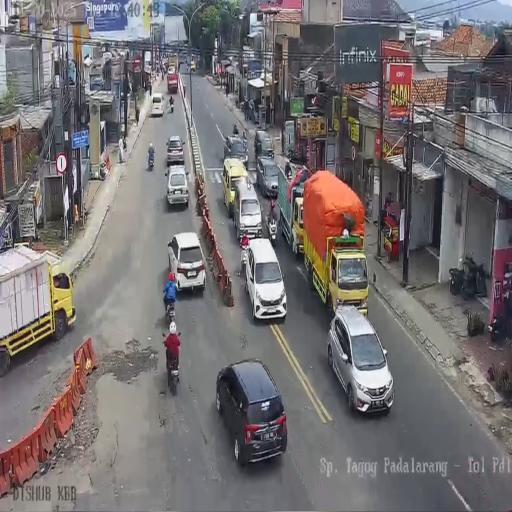car: (216, 360, 290, 466), (328, 305, 392, 414), (242, 237, 287, 322), (166, 232, 205, 296), (232, 180, 261, 242), (166, 163, 190, 206), (255, 157, 279, 200), (224, 134, 248, 168), (166, 134, 185, 166), (254, 130, 274, 160), (150, 92, 164, 117), (179, 53, 187, 67), (190, 58, 196, 71)
motorcycle: (162, 334, 181, 392), (284, 143, 306, 166), (164, 291, 177, 328), (147, 150, 154, 170), (169, 96, 174, 112), (162, 70, 164, 81)
truck: (0, 248, 78, 377), (300, 171, 365, 314), (168, 54, 177, 74)
